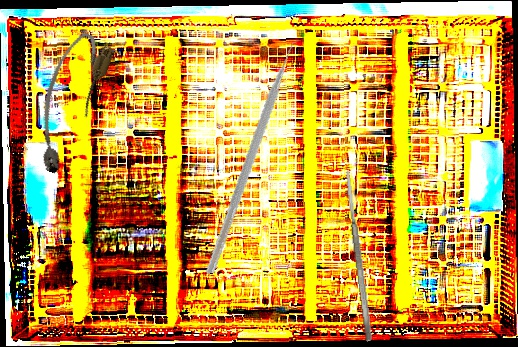Cannula: (18, 27, 118, 178)
Chopper: (163, 36, 357, 275)
Spatula Surgical: (343, 169, 374, 342)
